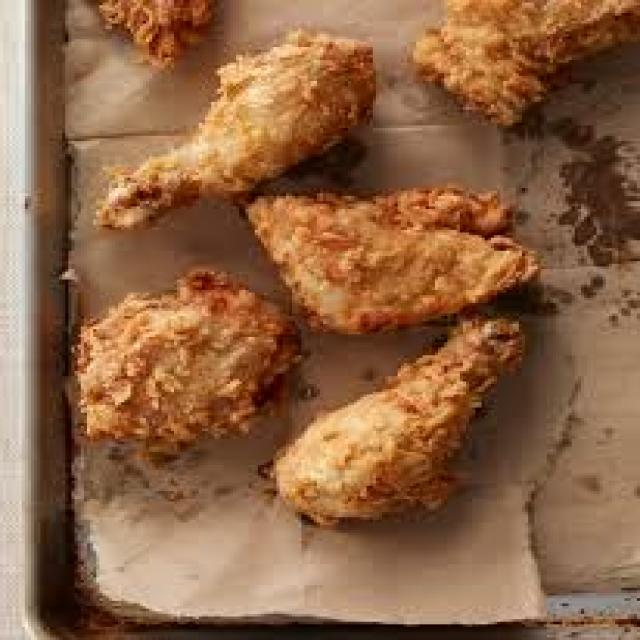Frango: (68, 0, 636, 522)
